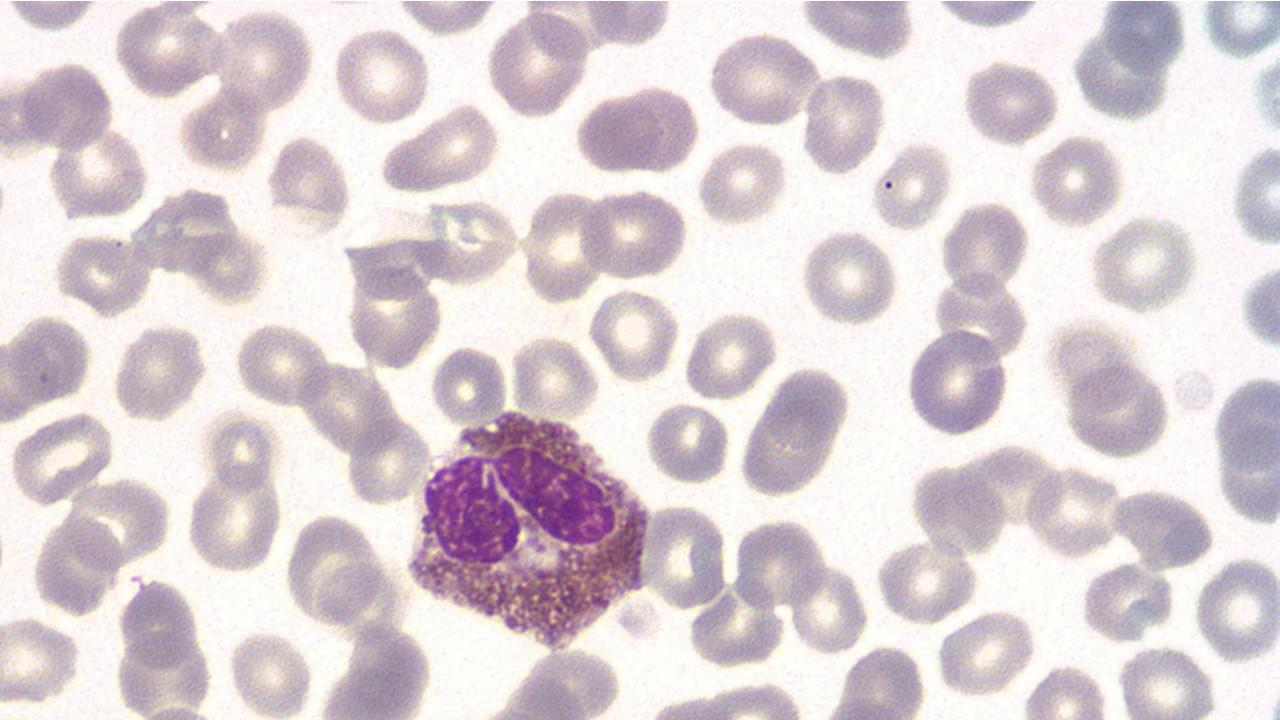Platelets: (1237, 261, 1279, 352), (1249, 46, 1280, 144), (1267, 688, 1280, 718)
RBC: (12, 5, 425, 409), (570, 83, 692, 180), (1085, 213, 1201, 314), (484, 9, 591, 118), (379, 102, 502, 196), (906, 326, 1010, 436), (186, 458, 284, 574), (734, 393, 838, 498), (1065, 359, 1173, 460), (577, 186, 689, 282), (7, 410, 117, 506), (705, 32, 816, 127), (216, 7, 314, 114), (46, 124, 150, 221), (332, 27, 433, 126), (798, 228, 900, 326), (113, 3, 218, 98), (908, 460, 1010, 557), (522, 187, 608, 302), (640, 500, 728, 610), (1192, 554, 1280, 664), (728, 515, 826, 612), (1071, 28, 1169, 124), (937, 199, 1029, 300), (113, 322, 204, 424), (798, 70, 886, 175), (1024, 465, 1123, 558), (587, 285, 680, 384), (416, 197, 521, 284), (1027, 134, 1125, 227), (935, 608, 1038, 696), (266, 132, 353, 234), (1111, 485, 1215, 569), (959, 58, 1058, 146), (682, 309, 778, 399), (235, 322, 333, 410), (874, 540, 976, 624), (1078, 559, 1174, 644), (509, 332, 599, 422), (53, 229, 148, 313), (1213, 405, 1279, 525), (697, 140, 790, 225), (228, 627, 314, 718), (788, 559, 870, 654), (180, 84, 268, 172), (871, 140, 954, 232), (1, 614, 82, 708), (1116, 642, 1216, 718), (7, 316, 91, 405), (646, 400, 730, 485), (430, 344, 508, 427), (1228, 140, 1280, 248), (1199, 1, 1279, 61)
WBC: (672, 0, 1278, 660), (398, 404, 664, 648), (573, 82, 704, 176), (1212, 365, 1280, 524), (1237, 260, 1279, 352)
